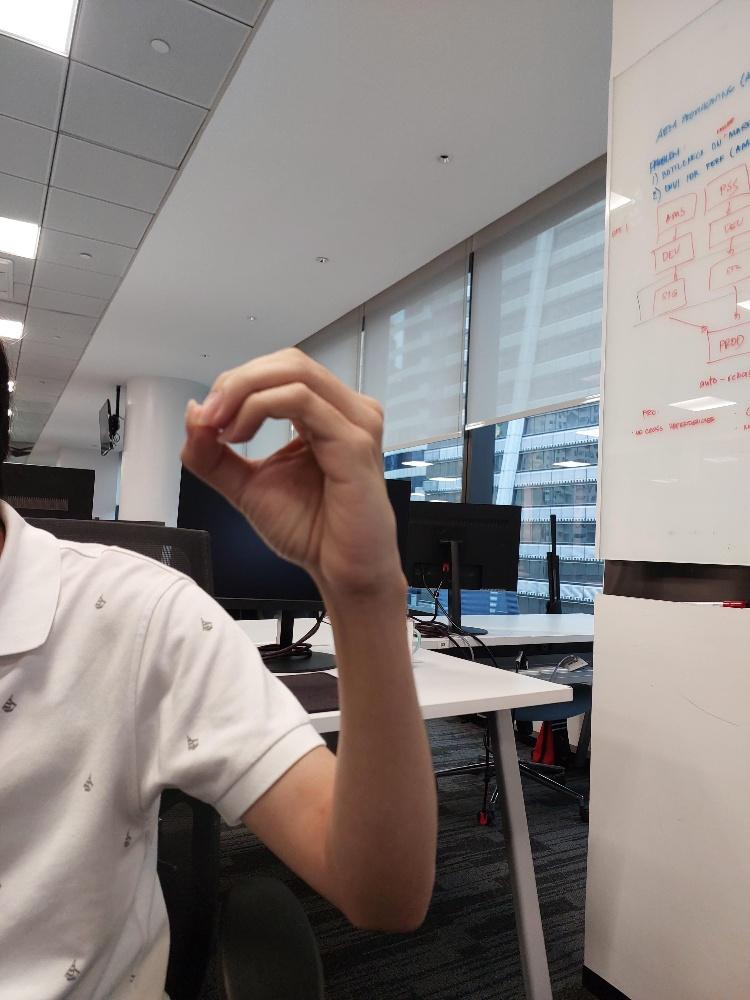o: (171, 341, 396, 584)
